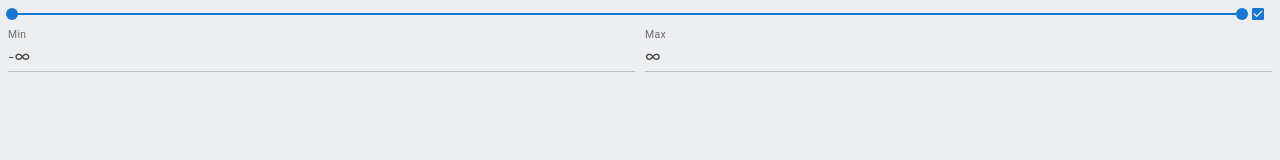
Test: ContinuousFilterControl › materialises unbounded ends when adapt is switched off
Click the checkbox named "Adapt bounds to dataset range".
click(1258, 14)  # box [1250,6,1266,22]
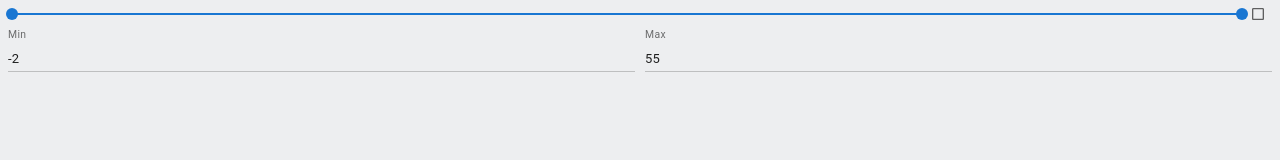
expect the field labelled "Min" holds "-2": met, box [8,49,635,69]
expect the field labelled "Max" holds "55": met, box [645,49,1272,69]
